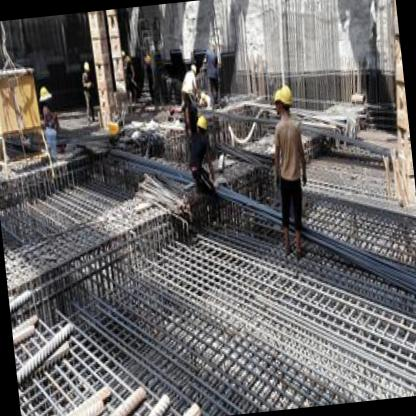bee: (275, 80, 297, 118), (270, 84, 286, 116), (191, 110, 209, 137)
